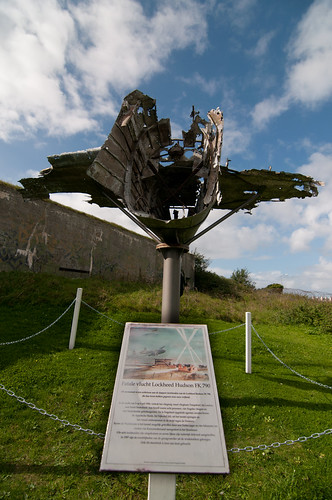grass: (10, 282, 332, 496)
plane: (29, 114, 316, 236)
sign: (107, 322, 226, 474)
sky: (1, 1, 332, 237)
